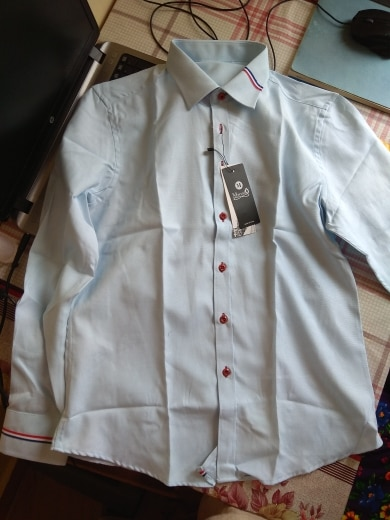shirts: (4, 36, 390, 483)
